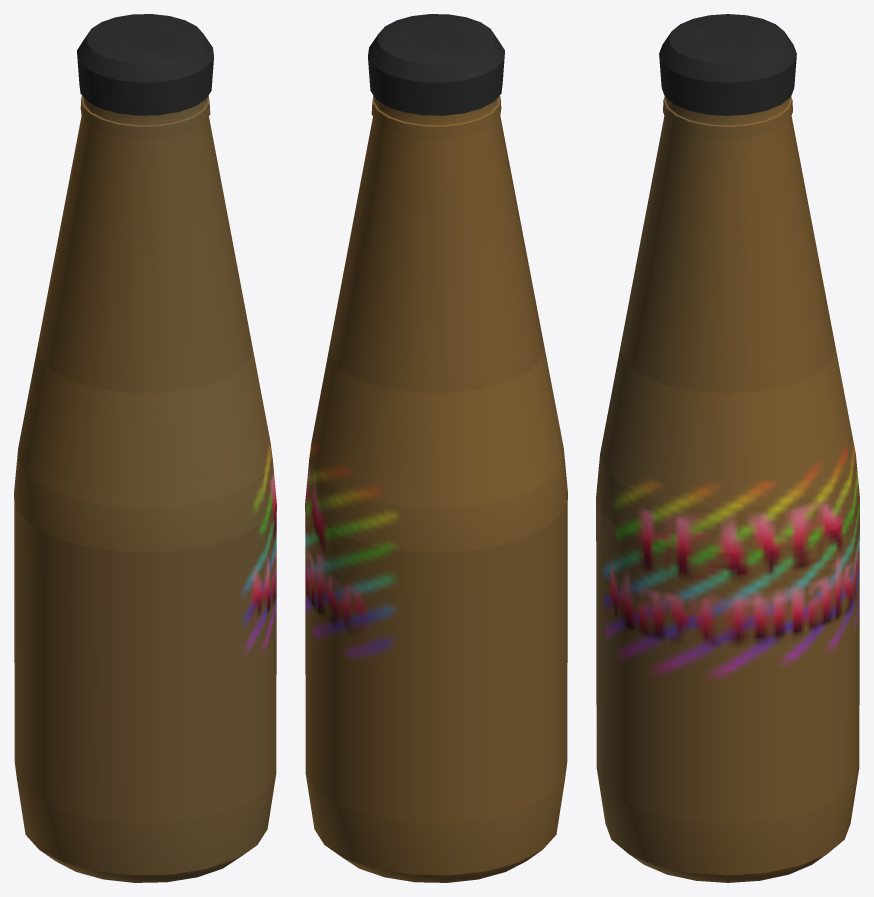
Rendered from Mayonnaise Glass Container.fbx.
3 renders of one model, left to right at view 1: azimuth 30°, elevation 25°; view 2: azimuth 150°, elevation 25°; view 3: azimuth 270°, elevation 25°, orthographic.
Visible parts, largest first — view 1: Mayonnaise_Glass_Container; view 2: Mayonnaise_Glass_Container; view 3: Mayonnaise_Glass_Container.
Part boxes in pixels (left/top/right/bottom): Mayonnaise_Glass_Container: left=14, top=14, right=276, bottom=882; Mayonnaise_Glass_Container: left=305, top=14, right=567, bottom=882; Mayonnaise_Glass_Container: left=596, top=14, right=859, bottom=882.
Size of the model in its own units: 7.84 by 26.28 by 7.83.
1 material, 1 textured.
